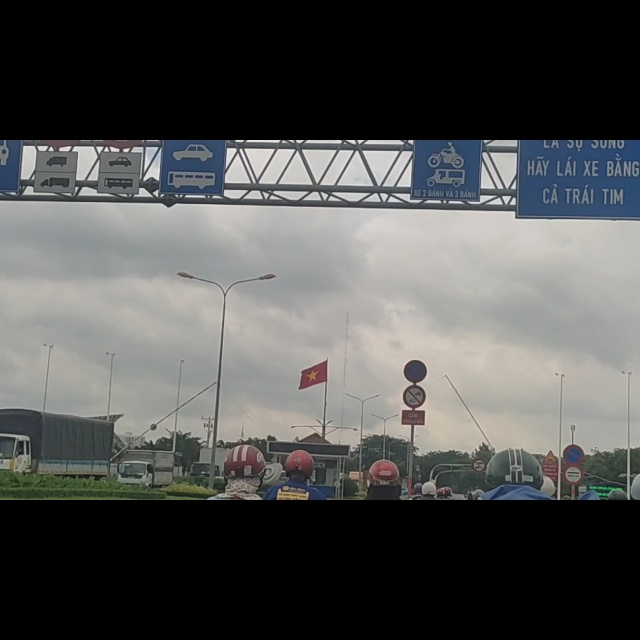bien_cam: (403, 435, 427, 476), (404, 390, 427, 431), (563, 542, 584, 576), (564, 577, 584, 612), (543, 552, 559, 575), (472, 567, 486, 589)
